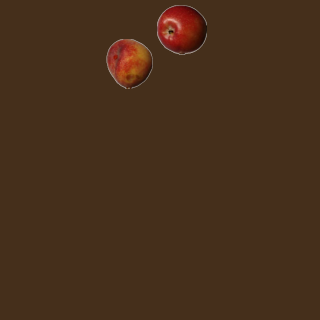Apple Braeburn: (156, 4, 206, 54)
Peach: (104, 38, 154, 88)
